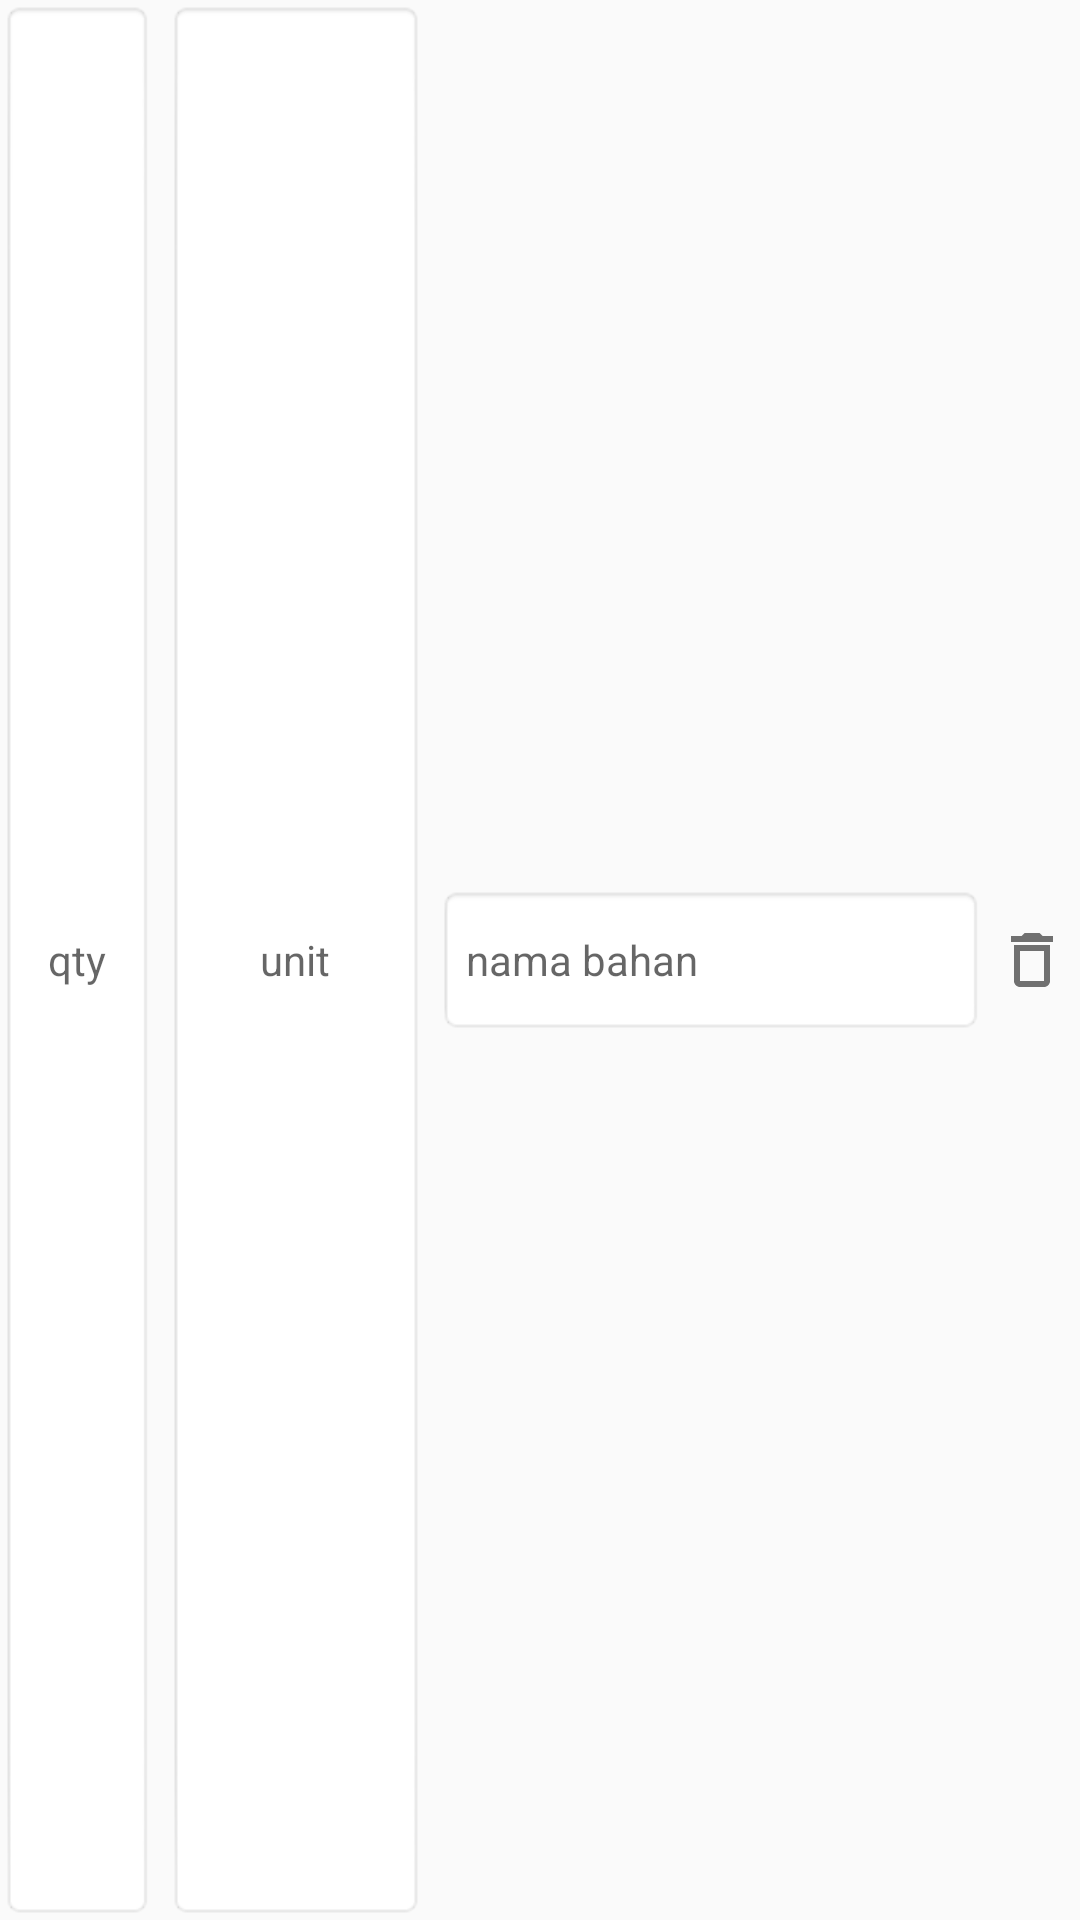

Icon click points for this 1080x1920 phone screenshot, format [x,y]:
trashbin: [1032,960]
